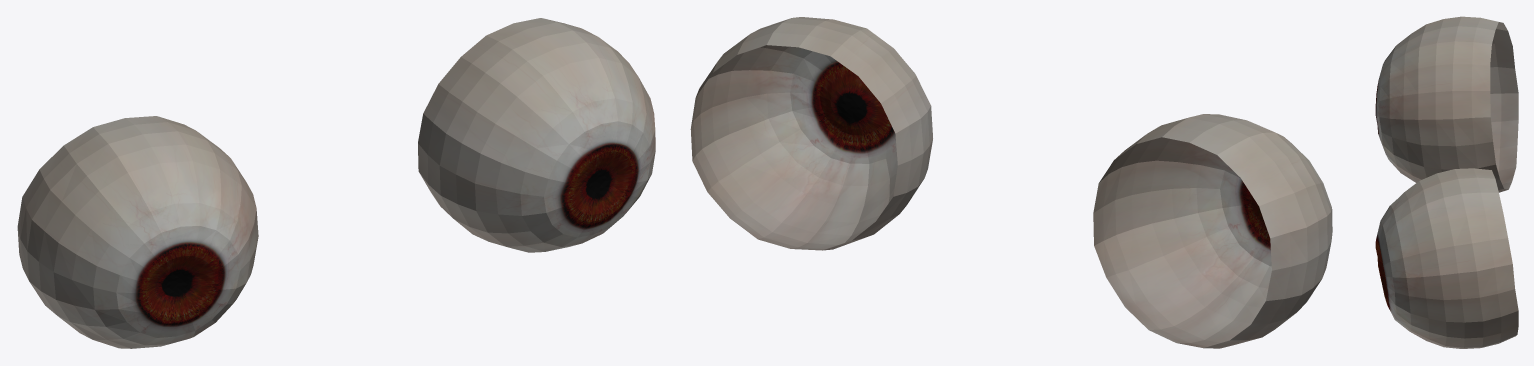
File: Eye_brown.obj
3 views of the same model, side by side, from view 1: azimuth 30°, elevation 25°; view 2: azimuth 150°, elevation 25°; view 3: azimuth 270°, elevation 25° (orthographic). The views are drawn at different scales.
Bounding box in the file's own units: 0.0948 × 0.0316 × 0.0268.
Materials: 1 (1 with a texture image).
